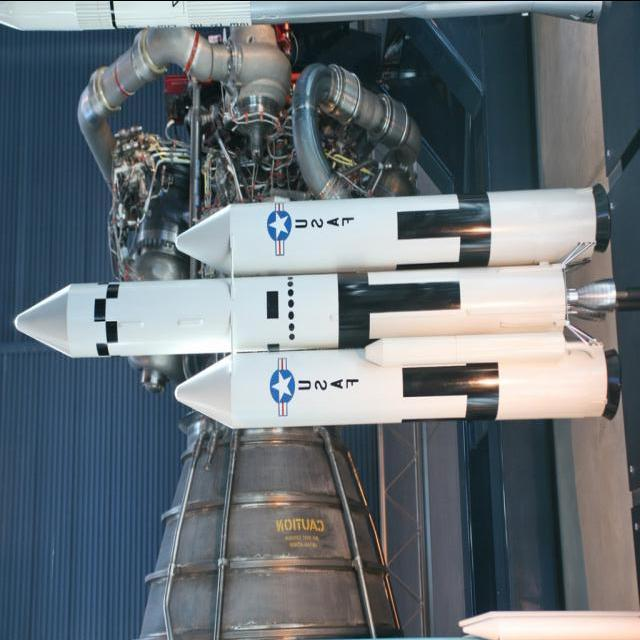Missile: (2, 259, 574, 352), (163, 175, 629, 272), (166, 337, 624, 428), (451, 607, 640, 639)
